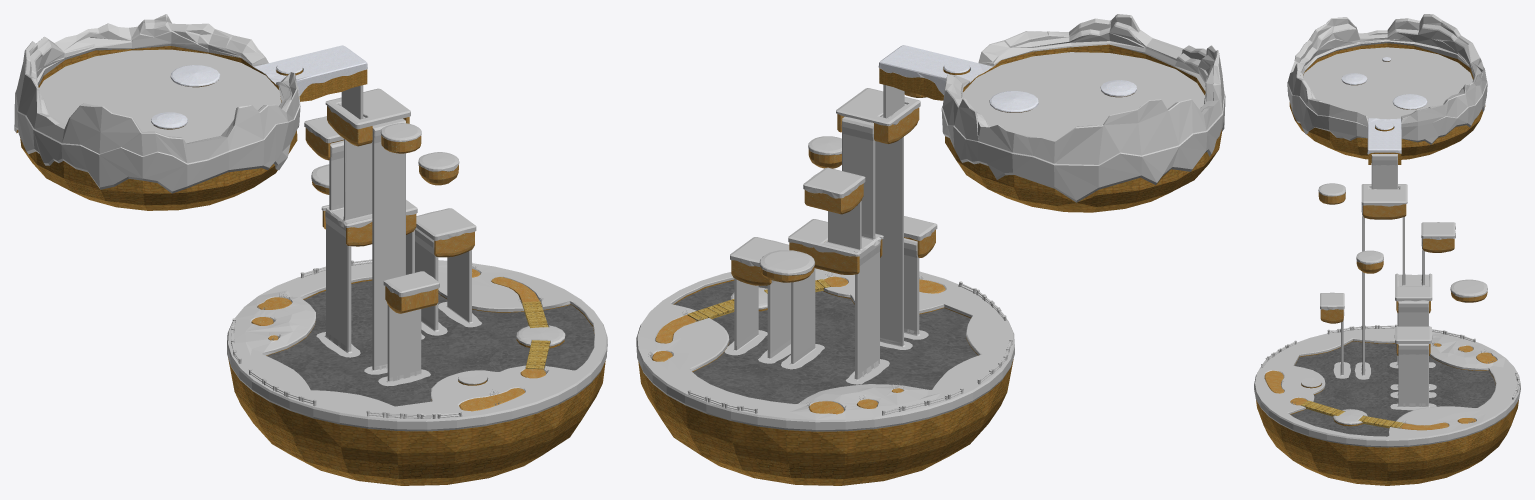
File: TwinFallLakePlanet_bake.dae
3 renders of one model, left to right at view 1: azimuth 30°, elevation 25°; view 2: azimuth 150°, elevation 25°; view 3: azimuth 270°, elevation 25°, orthographic. The views are drawn at different scales.
Parts seen in each view (by area): view 1: m3, m5, m14, m1, m0, m2, m4, m15, m13, m9, m6; view 2: m3, m5, m14, m1, m0, m2, m4, m15, m13, m6, m9, m8; view 3: m3, m5, m14, m0, m2, m1, m4, m15, m13, m9, m6, m8.
Part boxes in pixels (box(x1,y1,x2,y2)): m3: box(227, 88, 607, 431); m5: box(16, 46, 605, 485); m14: box(14, 14, 300, 193); m1: box(324, 85, 472, 382); m0: box(267, 280, 594, 406); m2: box(39, 49, 280, 143); m4: box(251, 106, 545, 411); m15: box(151, 45, 367, 128); m13: box(316, 207, 481, 386); m9: box(522, 301, 550, 369); m6: box(231, 260, 462, 418); m3: box(636, 88, 1014, 431); m5: box(638, 44, 1221, 485); m14: box(941, 14, 1225, 202); m1: box(733, 84, 920, 380); m0: box(674, 280, 977, 403); m2: box(962, 52, 1204, 141); m4: box(652, 91, 945, 414); m15: box(878, 45, 1136, 112); m13: box(724, 236, 928, 384); m6: box(687, 282, 1012, 415); m9: box(687, 279, 830, 320); m8: box(690, 283, 1011, 414); m3: box(1254, 183, 1520, 447); m5: box(1256, 43, 1518, 485); m14: box(1287, 14, 1487, 144); m0: box(1290, 341, 1495, 436); m2: box(1303, 47, 1472, 119); m1: box(1340, 154, 1429, 407); m4: box(1264, 192, 1496, 430); m15: box(1341, 57, 1427, 154); m13: box(1333, 274, 1436, 410); m9: box(1301, 400, 1403, 428); m6: box(1261, 325, 1520, 399); m8: box(1263, 325, 1519, 397).
Bounding box in the file's own units: 13966 × 11313 × 8400.
